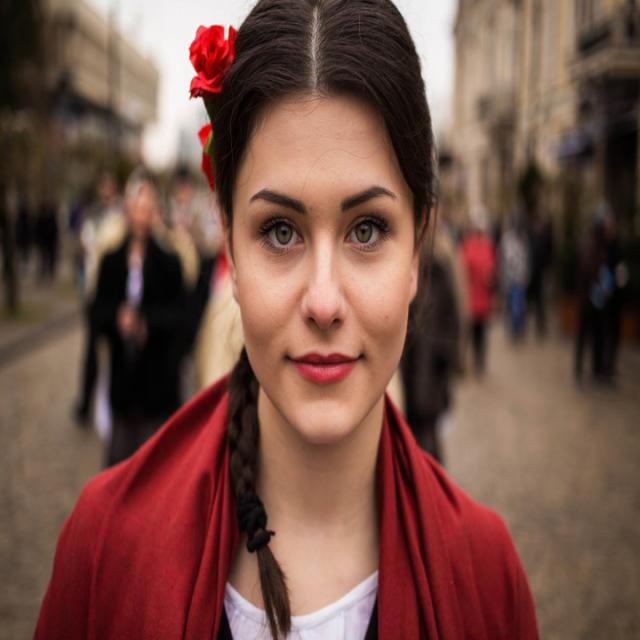mobile_phonerotation: (33, 0, 540, 638)
